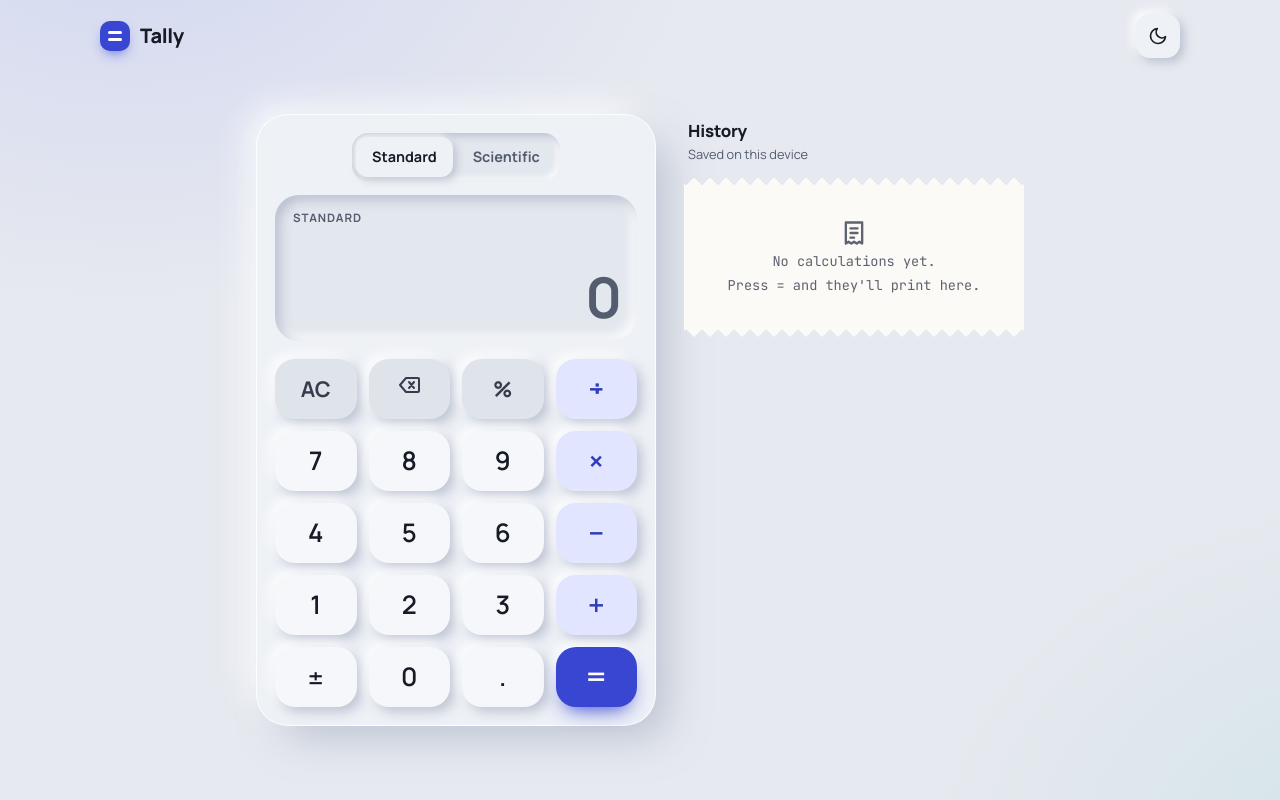
Test: display and keypad › starts fresh when a digit follows a result
This screenshot has width=1280, height=800.
Click the button "2".
click(409, 605)  # box [368,575,450,635]
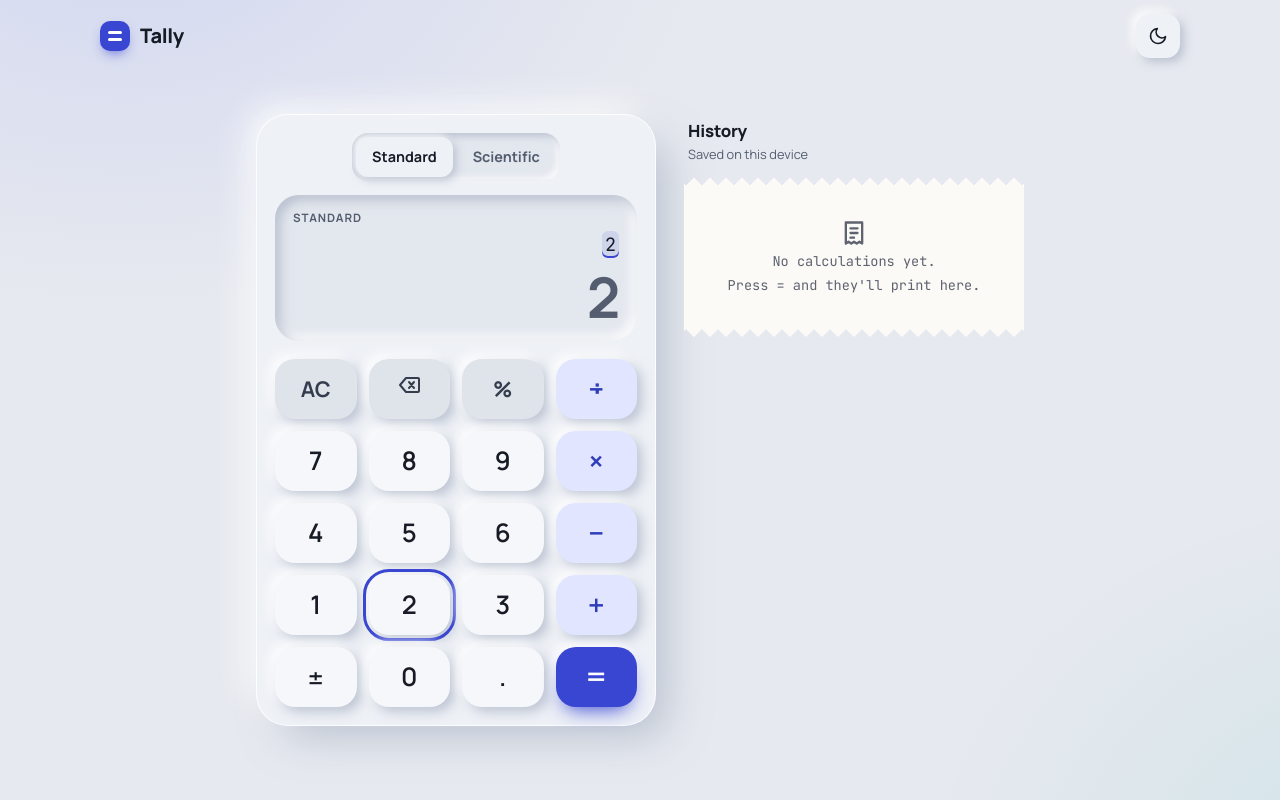
Click the button named "plus".
click(596, 605)  # box [556,575,637,635]
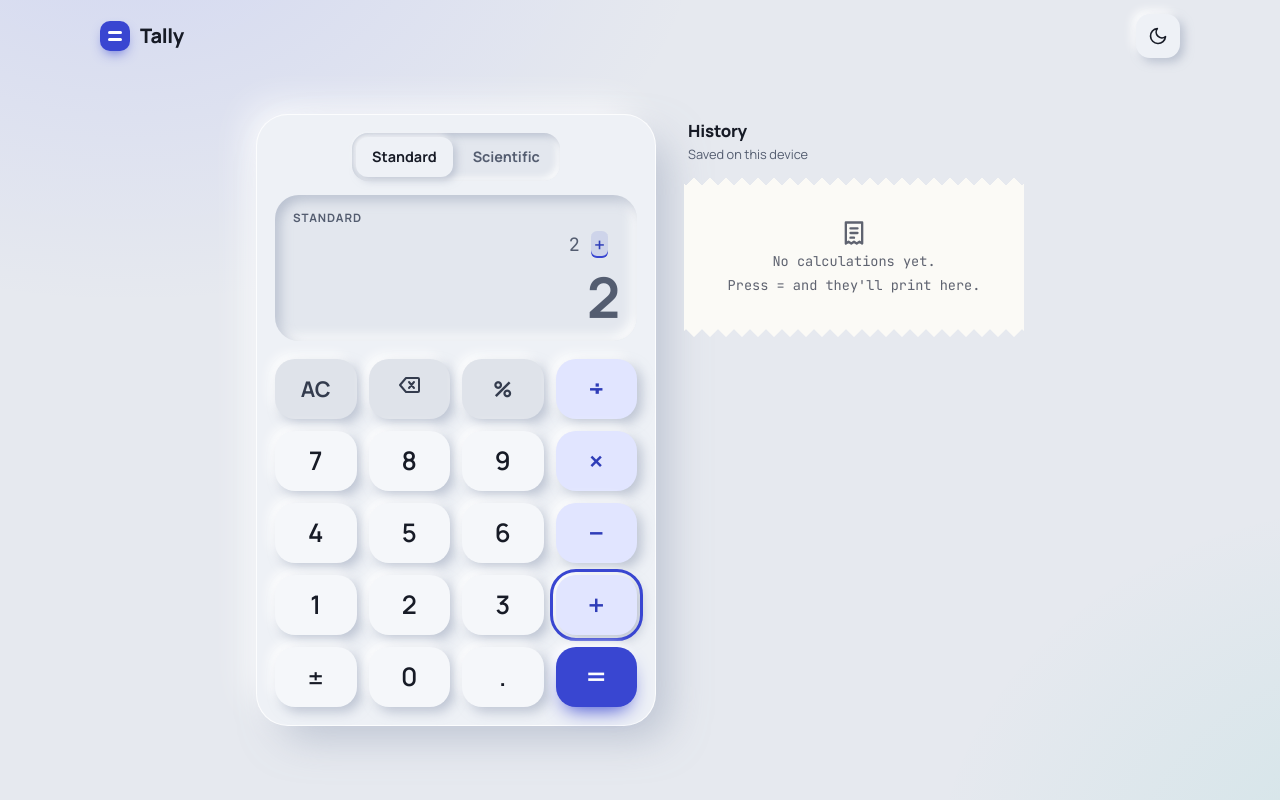
Click the button "3".
click(503, 605)  # box [462,575,544,635]
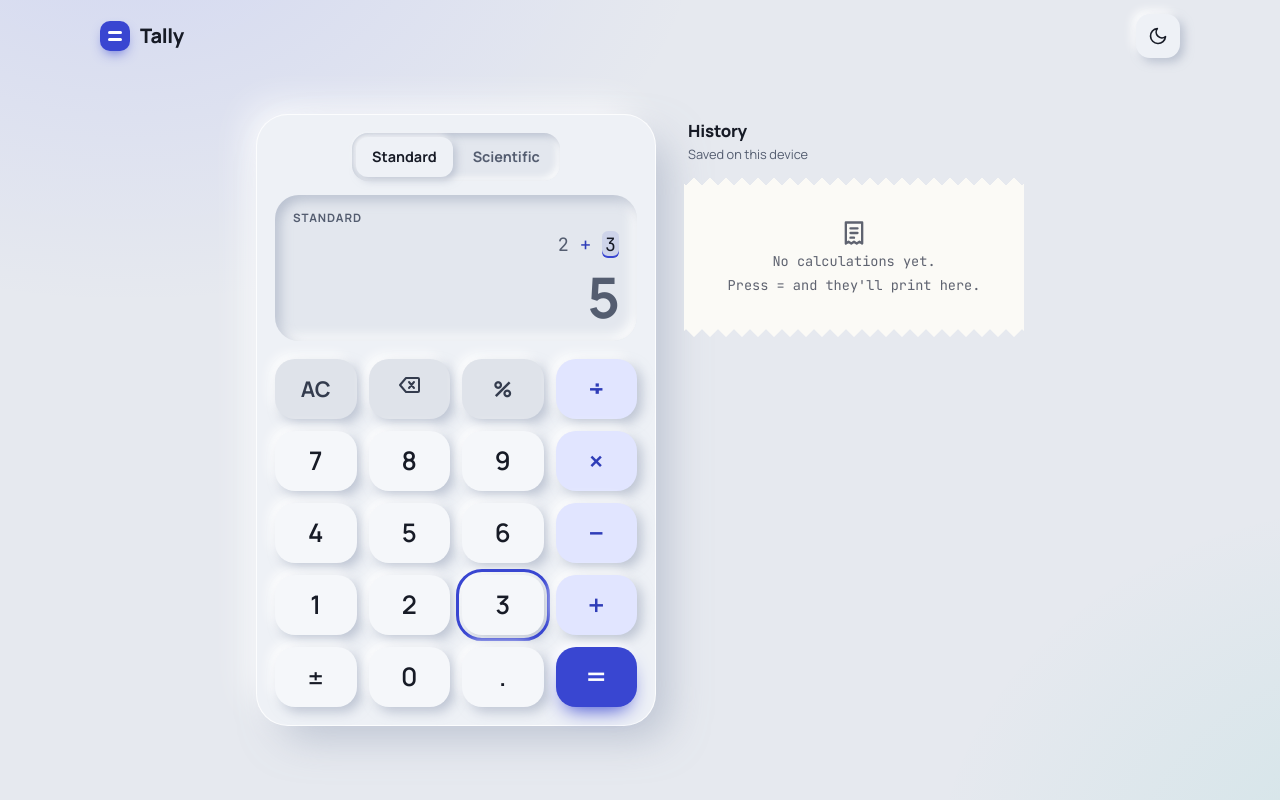
Click the button named "equals".
click(596, 677)  # box [556,647,637,707]
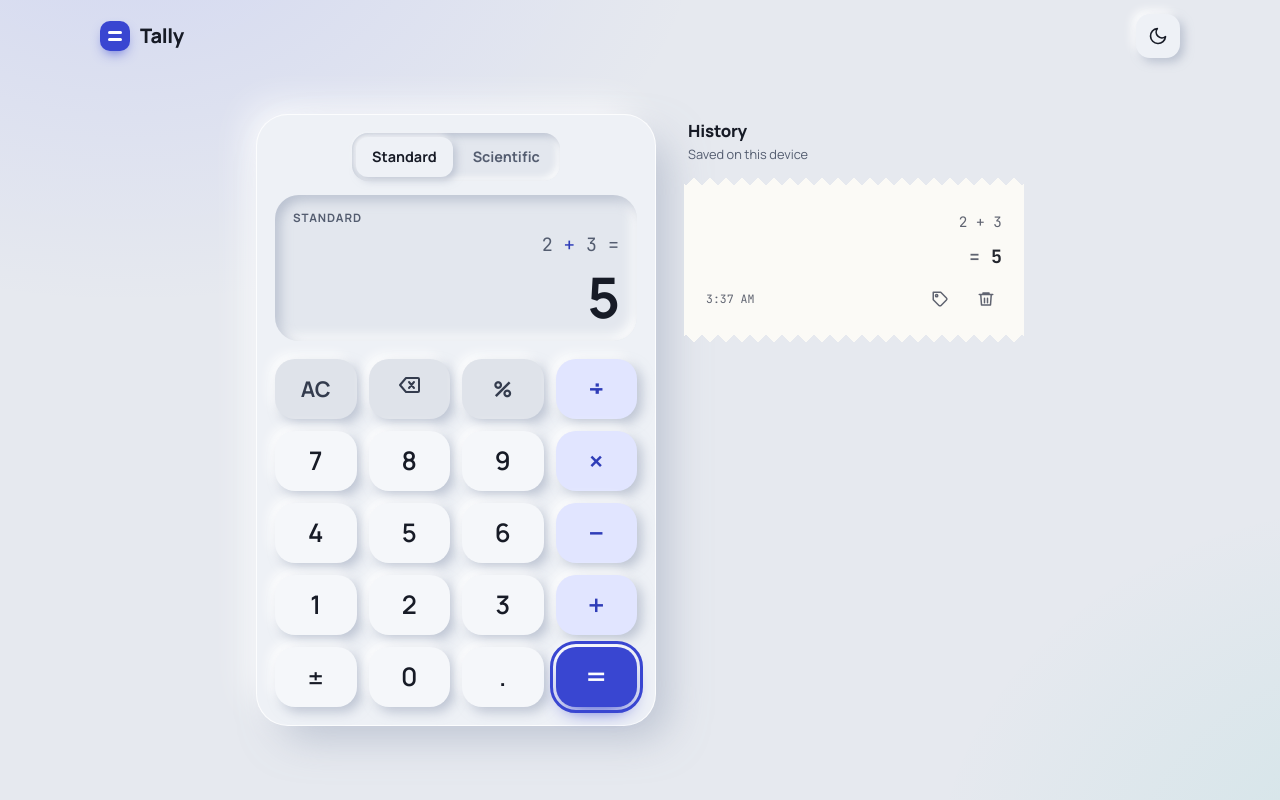
Click the button "7".
click(316, 461)  # box [275,431,356,491]
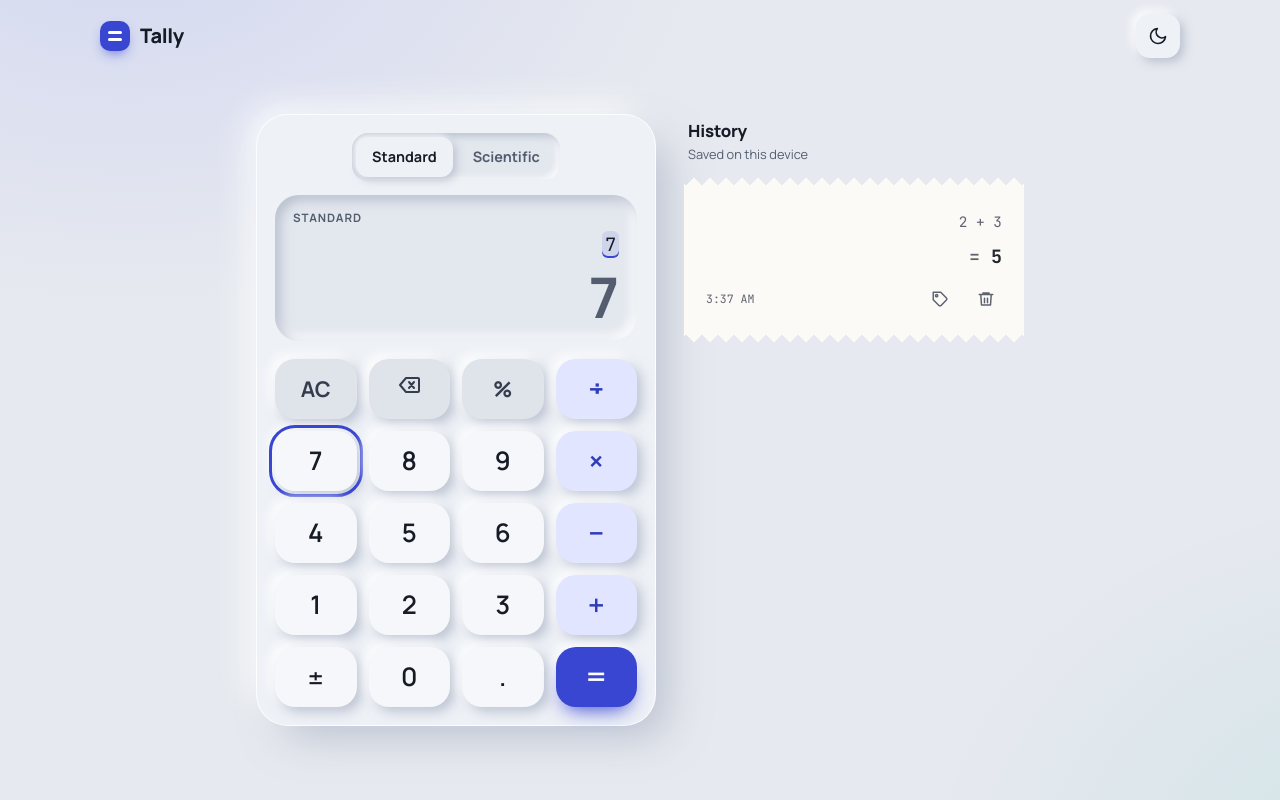
Result: the field with test id "expression" reads "7" at [605,232,616,257]
